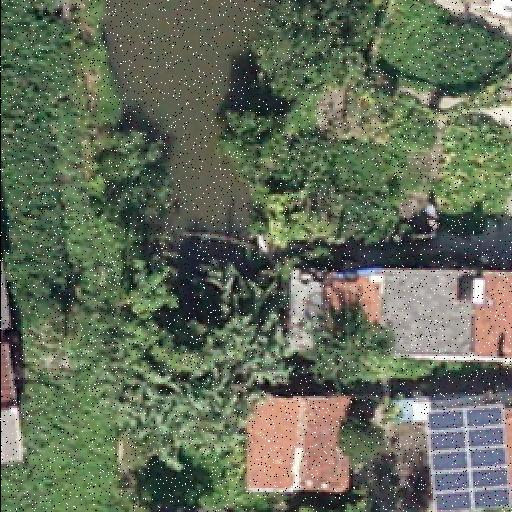solar-panel: (408, 388, 512, 512)
